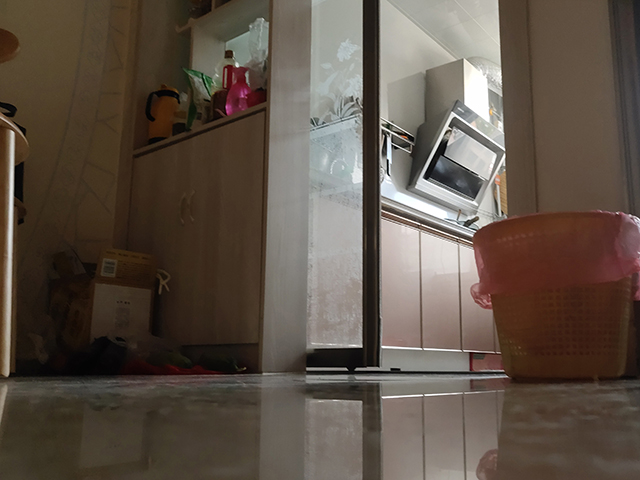cabinet: (112, 101, 303, 377), (377, 193, 514, 374)
trashcan: (471, 207, 640, 384)
